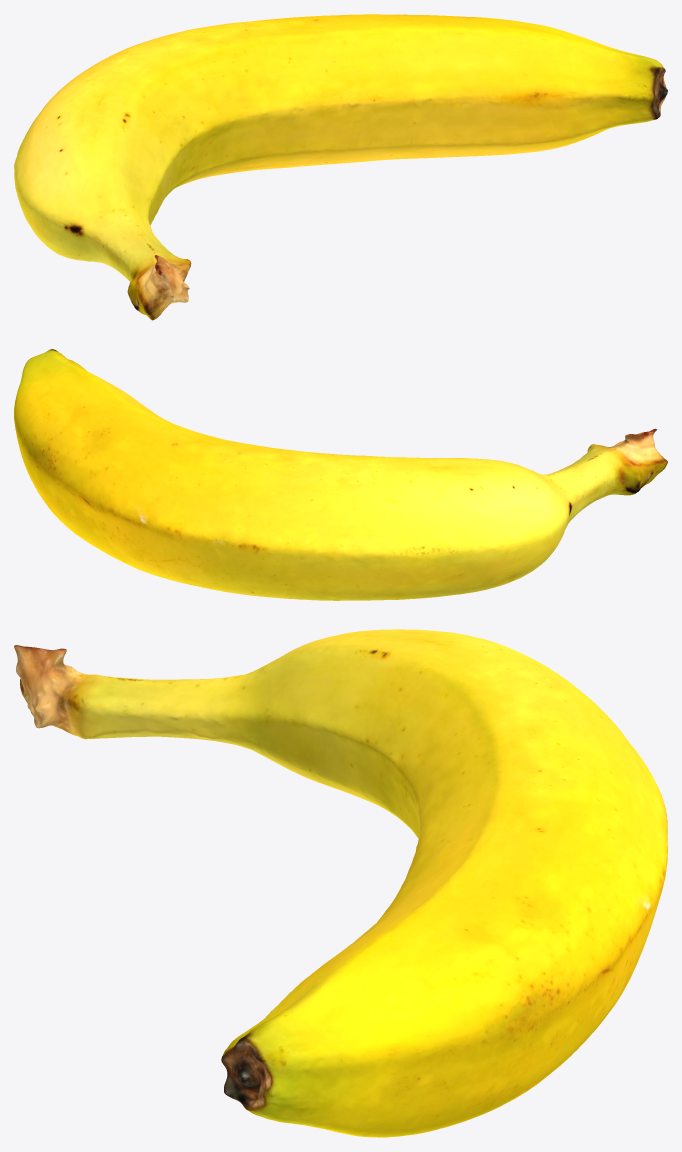
The model's file is banana_high.glb.
3 views of the same model, one above another, from view 1: azimuth 30°, elevation 25°; view 2: azimuth 150°, elevation 25°; view 3: azimuth 270°, elevation 25° (orthographic). The views are drawn at different scales.
Visible parts, largest first — view 1: Object_22; view 2: Object_22; view 3: Object_22.
Part boxes in pixels (box(x1,y1,x2,y2)): Object_22: box(14, 14, 667, 320); Object_22: box(14, 349, 667, 600); Object_22: box(14, 629, 667, 1137).
Bounding box in the file's own units: 6.78 × 1.61 × 4.44.
Materials: 1 (1 with a texture image).
